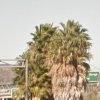Palm tree: (27, 19, 97, 98)
